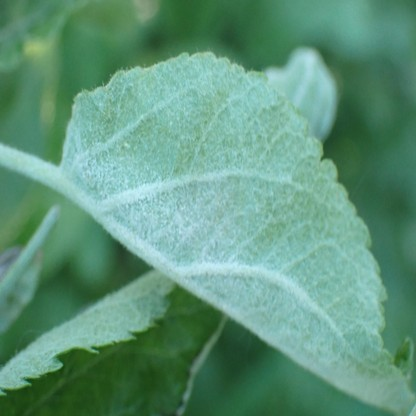powder: (64, 50, 412, 412), (1, 267, 182, 391), (266, 45, 337, 141)
